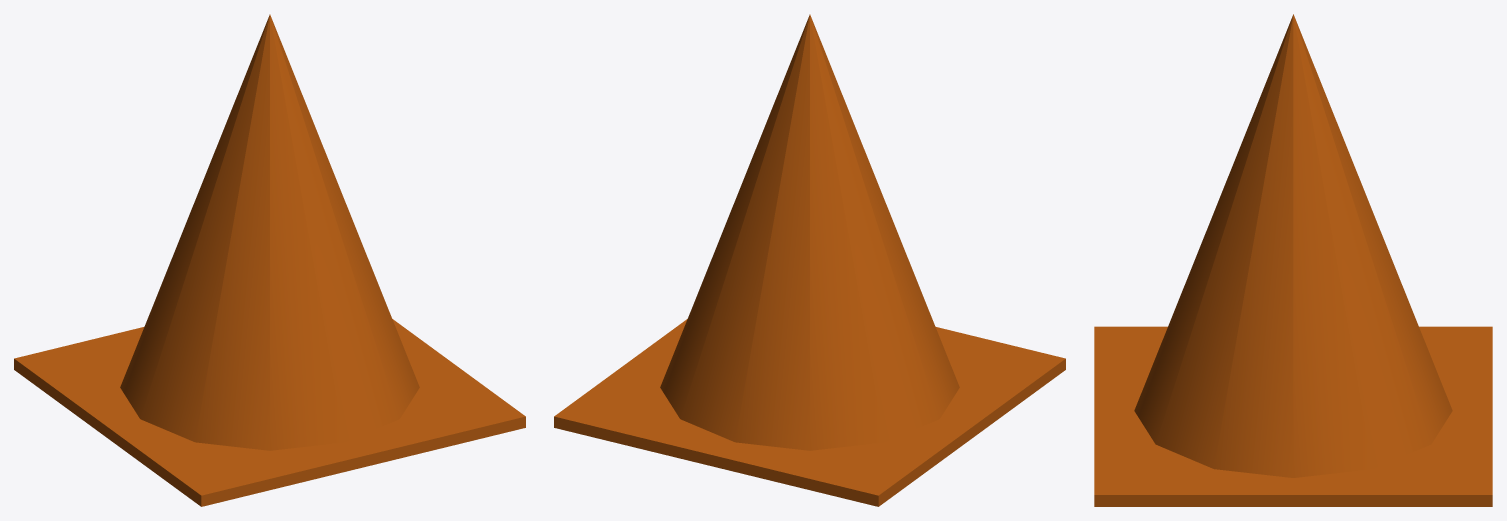
3 views of the same model, side by side, from view 1: azimuth 30°, elevation 25°; view 2: azimuth 150°, elevation 25°; view 3: azimuth 270°, elevation 25° (orthographic). The views are drawn at different scales.
Visible parts, largest first — view 1: SketchUp (×2); view 2: SketchUp (×2); view 3: SketchUp (×2).
Part boxes in pixels (box(x1,y1,x2,y2)): SketchUp (×2): box(14, 14, 525, 506); SketchUp (×2): box(554, 14, 1065, 506); SketchUp (×2): box(1094, 14, 1492, 506).
Bounding box in the file's own units: 5.91 × 5.91 × 6.69.
